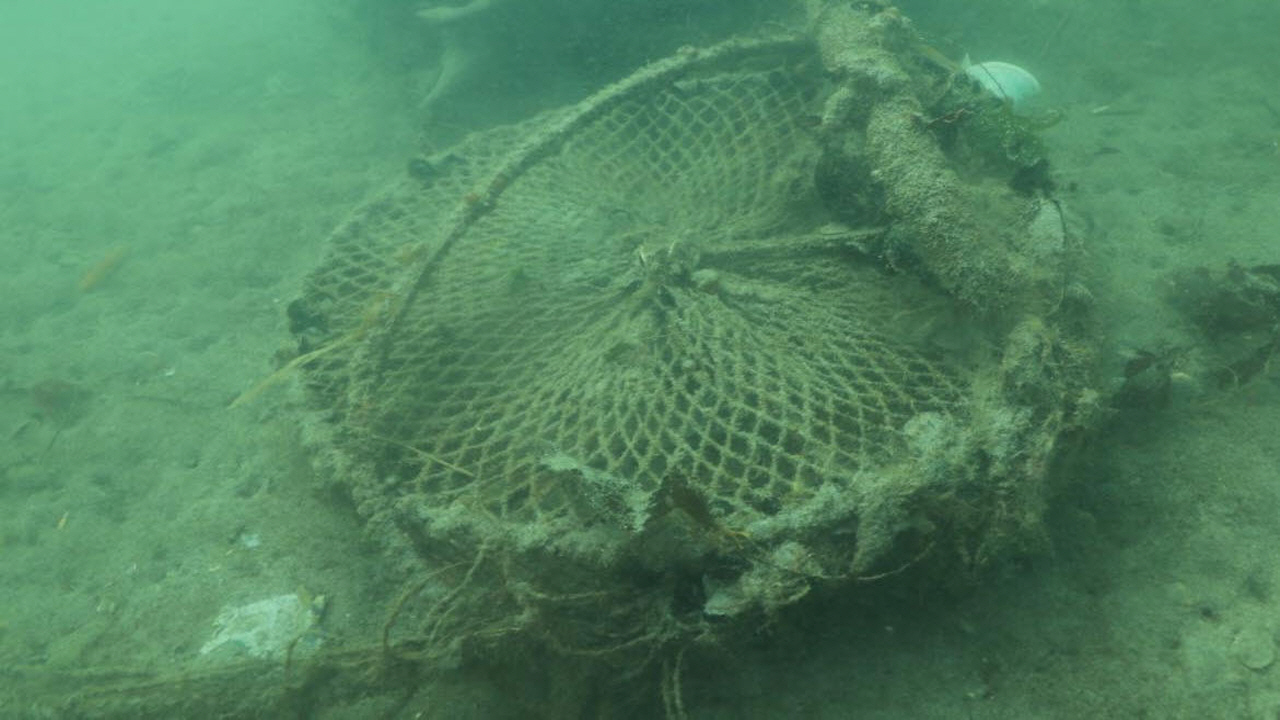circular fish trap: (275, 69, 1006, 558)
